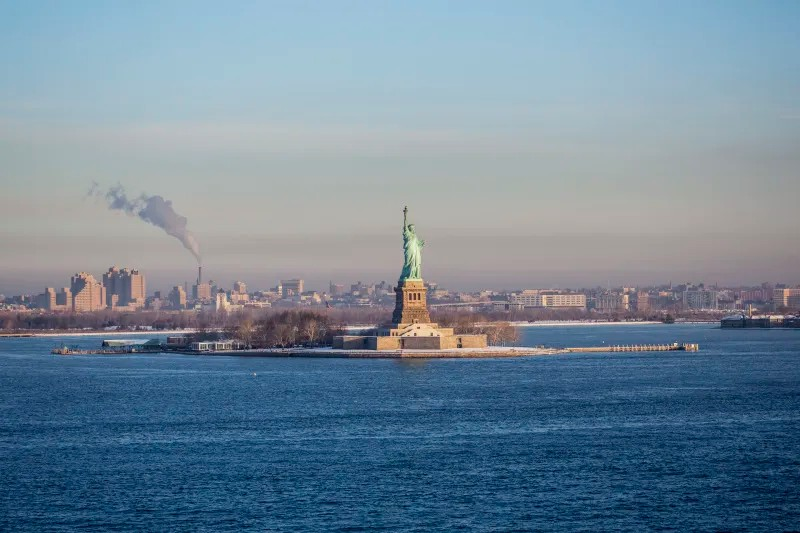SL: (391, 203, 431, 322)
